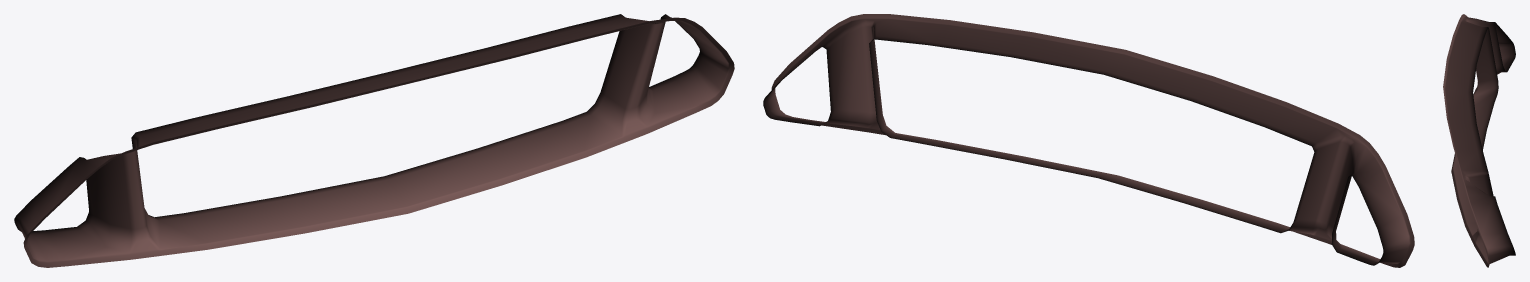
Rendered from Mustang16_Grill_01_Trim.fbx.
3 views of the same model, side by side, from view 1: azimuth 30°, elevation 25°; view 2: azimuth 150°, elevation 25°; view 3: azimuth 270°, elevation 25° (orthographic). The views are drawn at different scales.
Parts seen in each view (by area): view 1: Mustang16_Grill_01_Trim; view 2: Mustang16_Grill_01_Trim; view 3: Mustang16_Grill_01_Trim.
Boxes of the visible parts, bbox=[...] form: Mustang16_Grill_01_Trim: bbox=[14, 14, 734, 267]; Mustang16_Grill_01_Trim: bbox=[763, 14, 1414, 267]; Mustang16_Grill_01_Trim: bbox=[1443, 14, 1515, 267].
Bounding box in the file's own units: 108 × 20.2 × 15.76.
